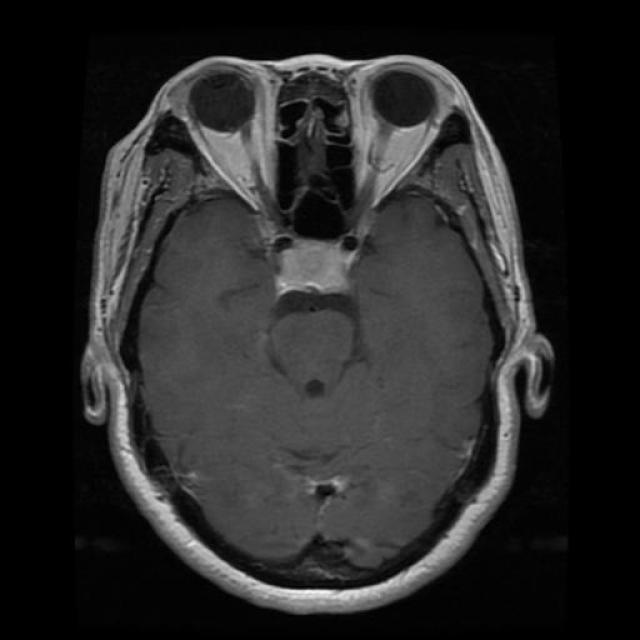pituitary: (266, 235, 379, 311)
